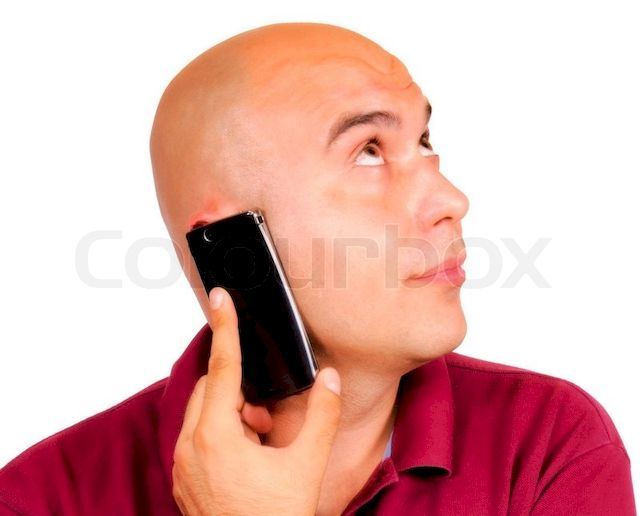phone: (186, 216, 327, 409)
talk: (170, 89, 468, 516)
